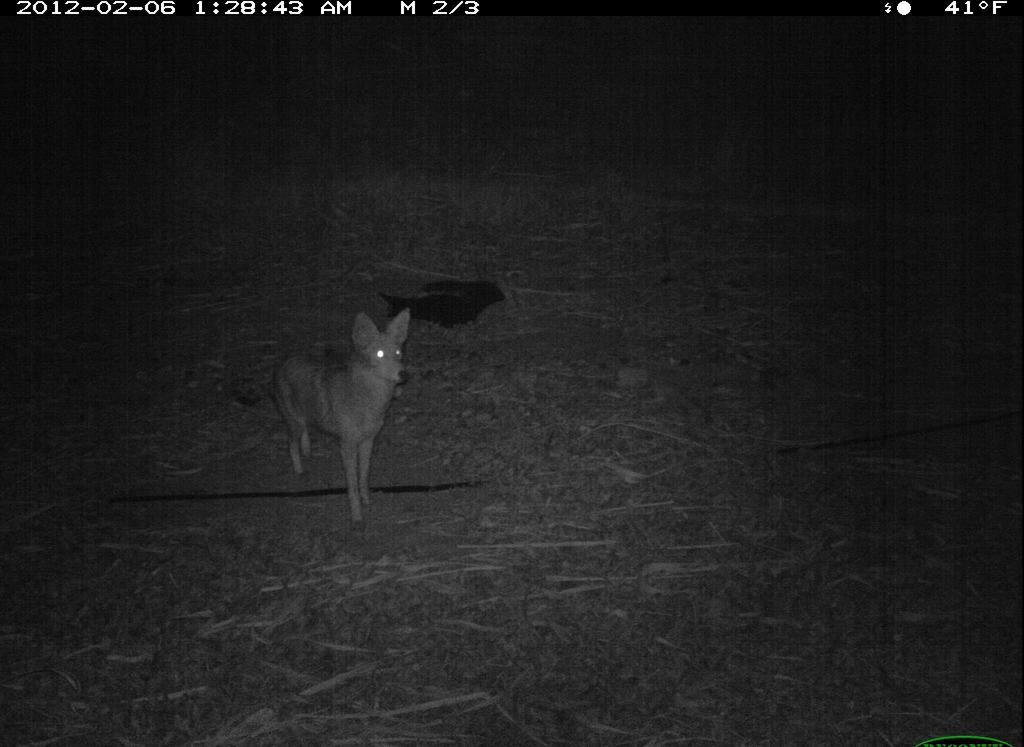coyote: (246, 305, 425, 533)
